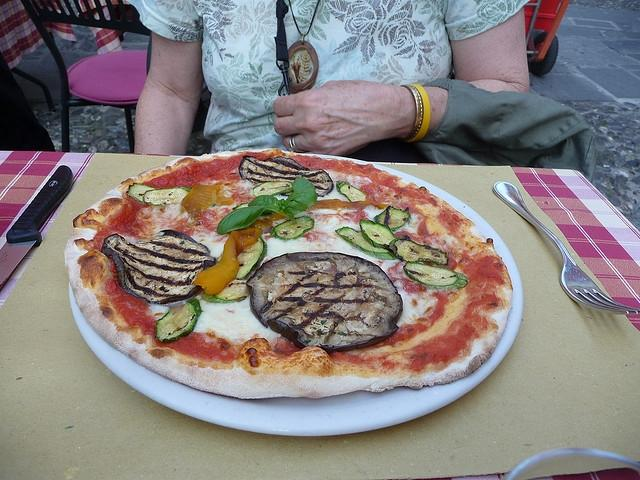eggplant: (246, 252, 404, 354), (101, 230, 216, 304), (238, 155, 334, 196)
